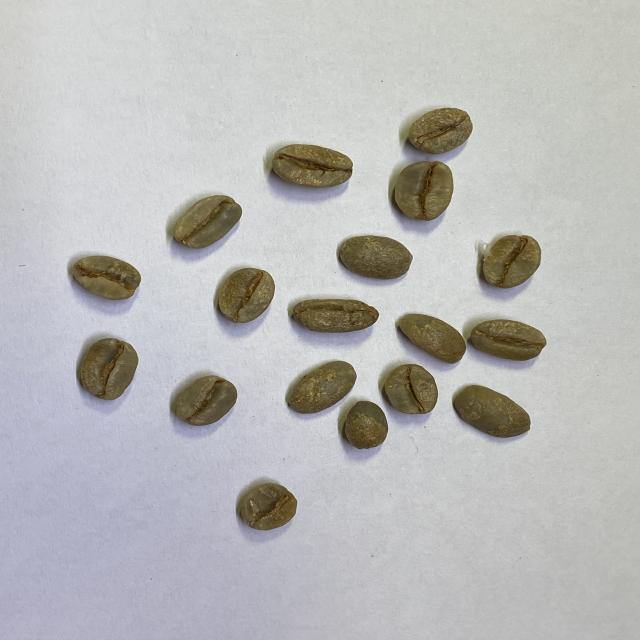bad: (291, 297, 380, 334), (237, 482, 300, 532)
good: (452, 383, 532, 439), (173, 193, 243, 250), (271, 143, 354, 191), (78, 338, 140, 402), (286, 359, 357, 414), (393, 160, 455, 221), (397, 312, 467, 365), (337, 233, 414, 281), (173, 373, 239, 427), (216, 266, 277, 324), (480, 233, 542, 290), (70, 254, 143, 302), (406, 105, 474, 156), (470, 319, 547, 361), (385, 363, 439, 415), (344, 399, 389, 450)
